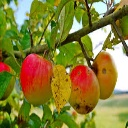apple: (21, 53, 56, 106)
